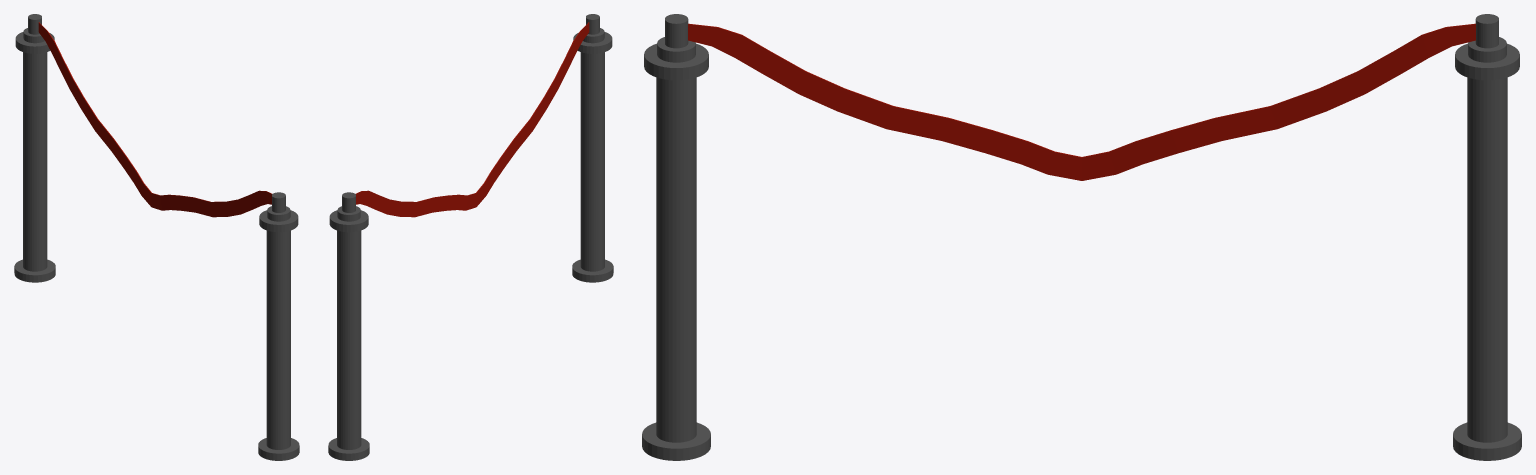
Rendered from Barricade.fbx.
3 renders of one model, left to right at view 1: azimuth 30°, elevation 25°; view 2: azimuth 150°, elevation 25°; view 3: azimuth 270°, elevation 25°, orthographic. The views are drawn at different scales.
Parts seen in each view (by area): view 1: Barricade; view 2: Barricade; view 3: Barricade.
Part boxes in pixels (box(x1,y1,x2,y2)): Barricade: box(14, 14, 299, 460); Barricade: box(328, 14, 613, 460); Barricade: box(642, 14, 1521, 460).
Size of the model in its own units: 51 by 349 by 651.
